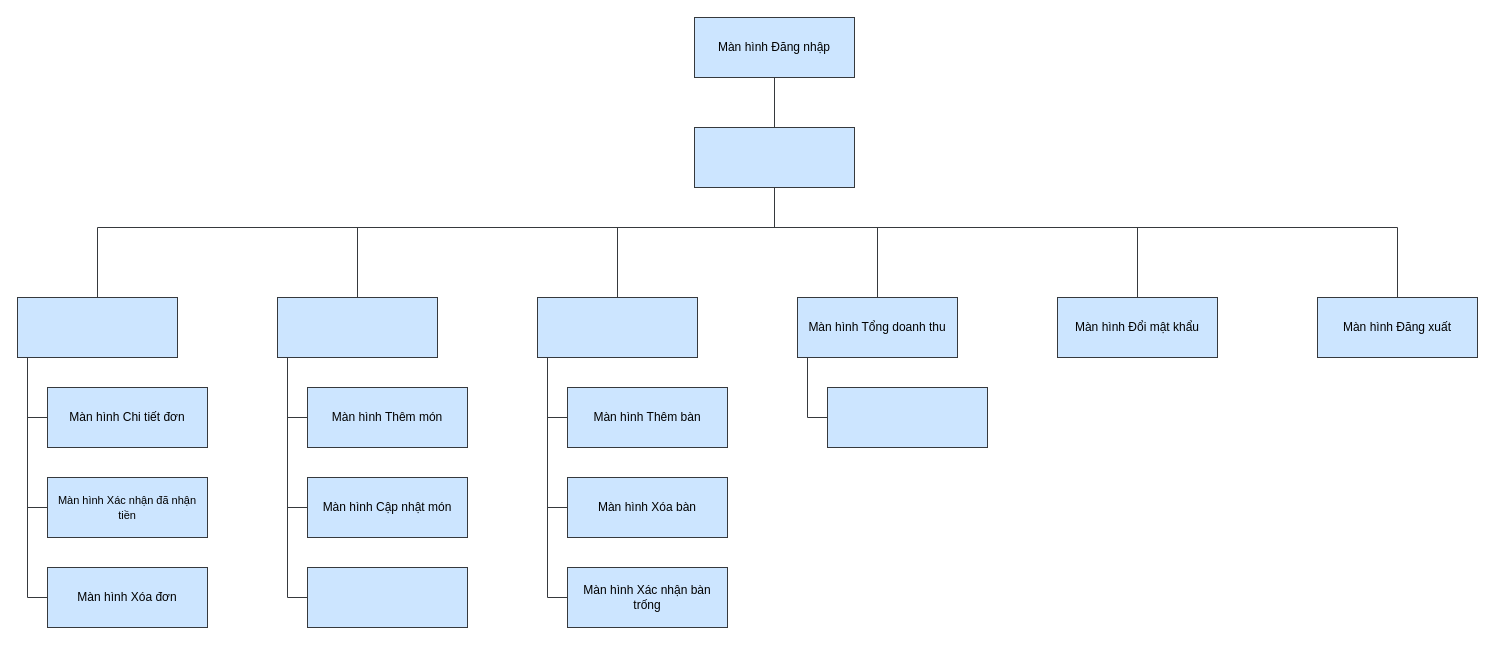
The diagram is 1495 pixels wide and 645 high, and some of its shapes have lost their labels. The shapes that lost their labels are listed below. From the top down, each one's box as (x1, y1, x2, y2) in pixels, then its label:
(694, 126, 854, 188): Màn hình Trang chủ
(16, 296, 178, 358): Màn hình Danh sách đơn
(276, 296, 438, 358): Màn hình Danh sách món
(536, 296, 698, 358): Màn hình Sơ đồ bàn
(826, 386, 988, 448): Màn hình Chi tiết doanh thu
(306, 566, 468, 628): Màn hình Xóa món
